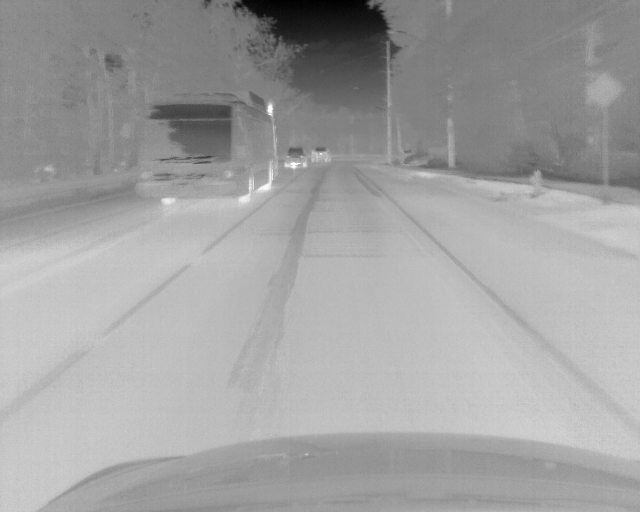car: (133, 89, 276, 204), (283, 145, 307, 169), (310, 144, 330, 167)
